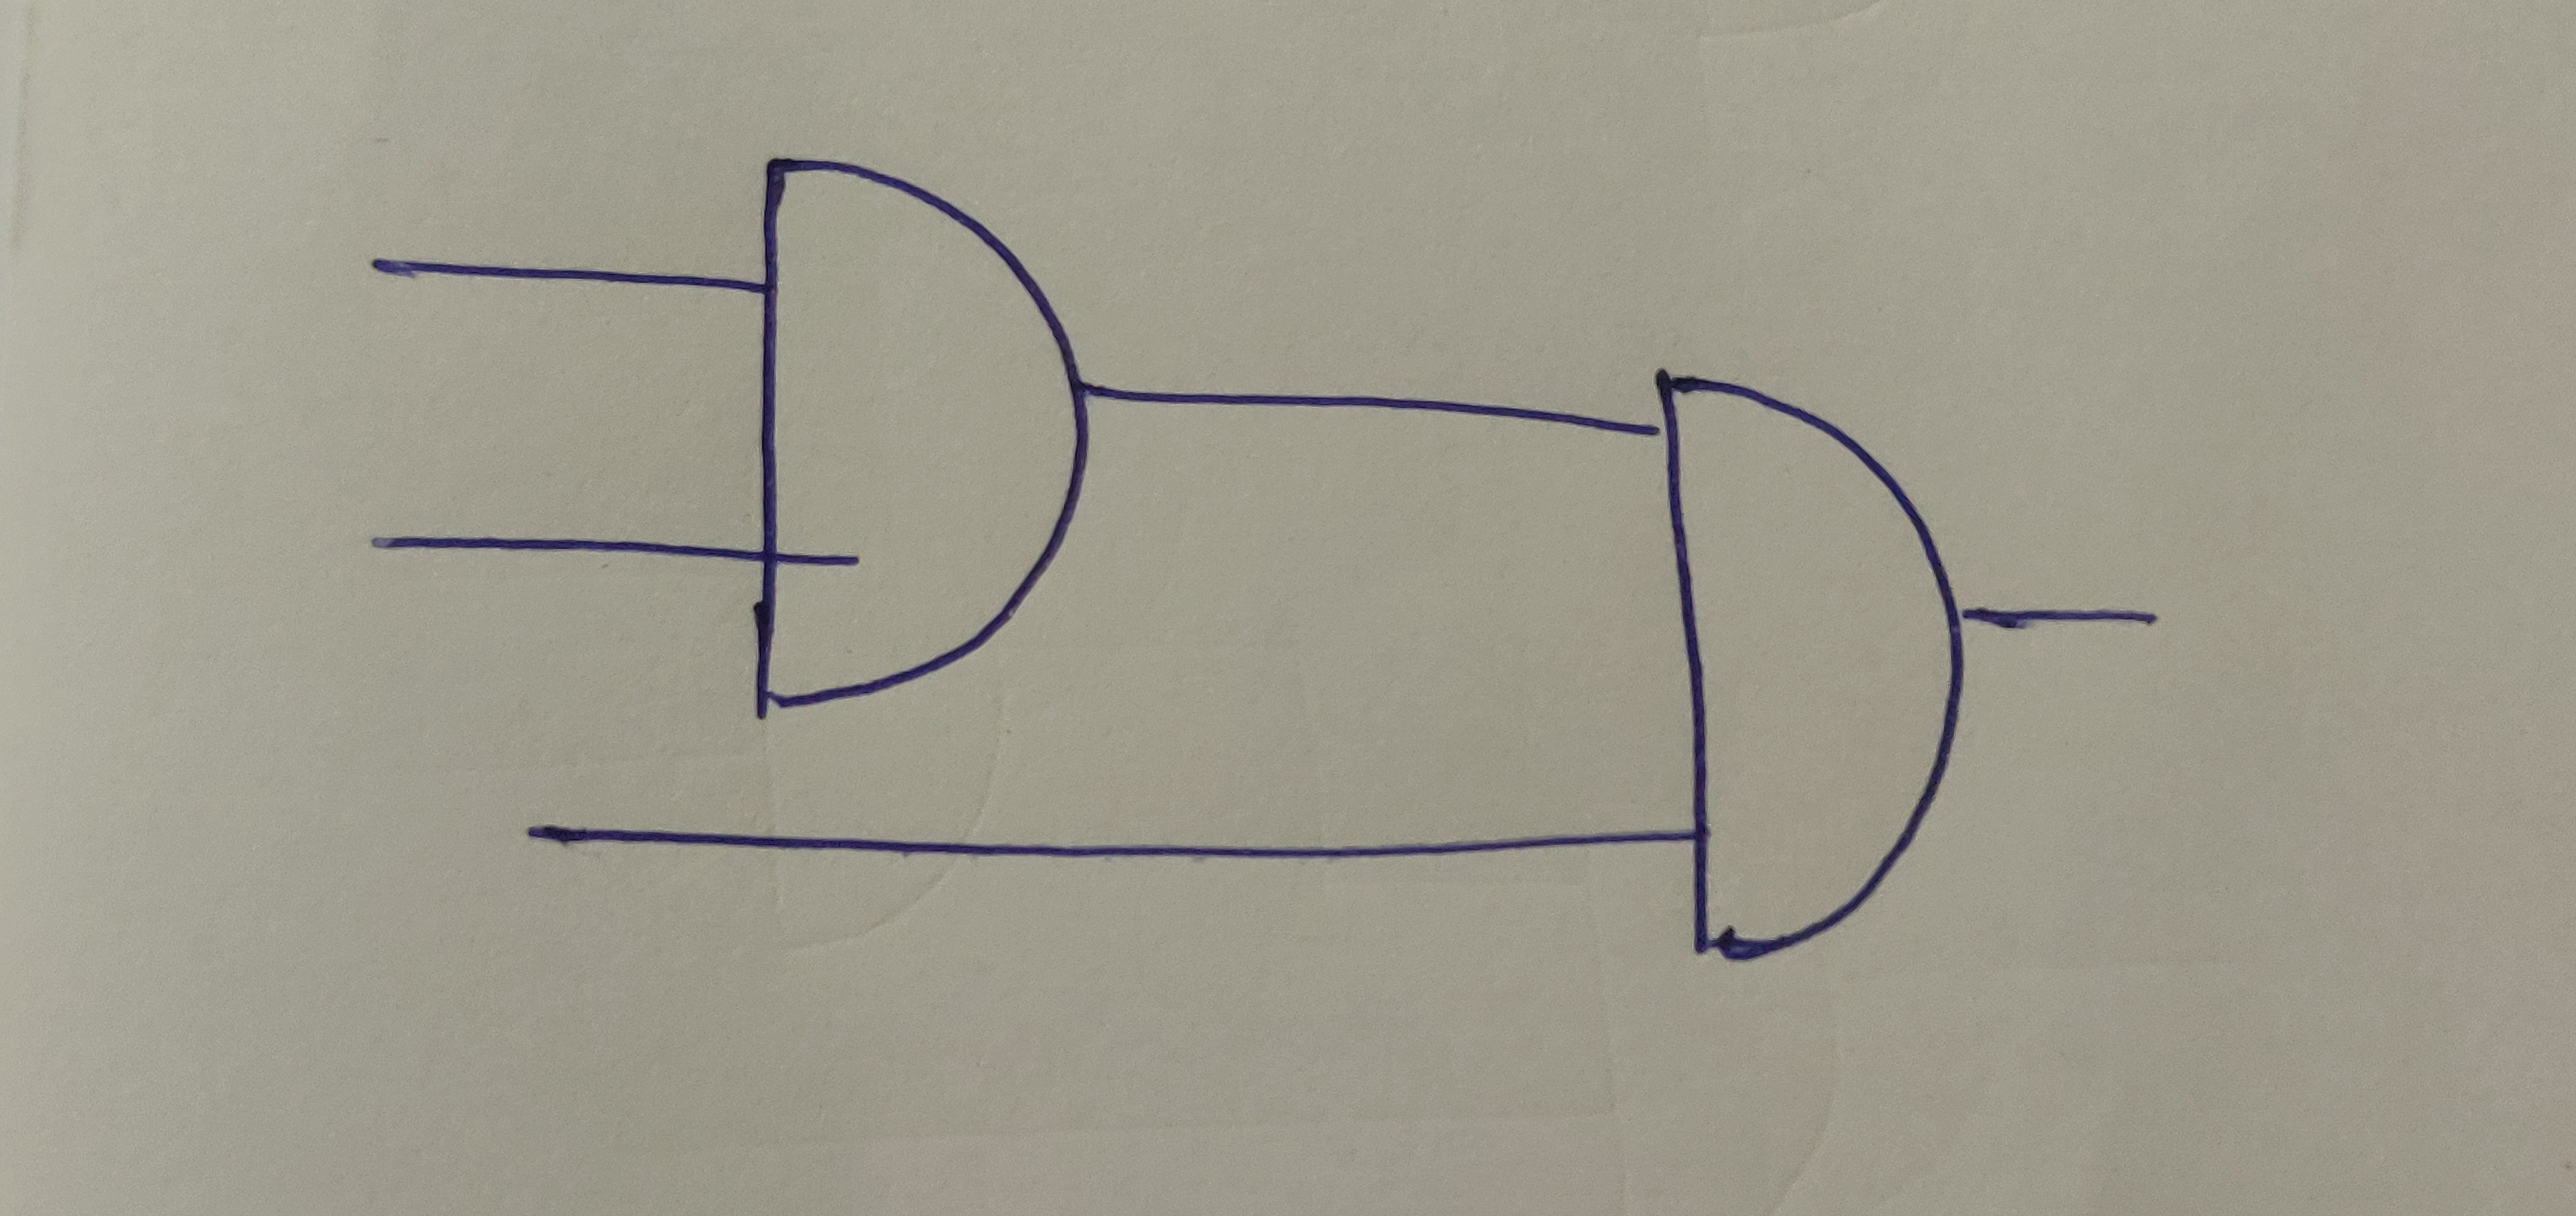and: (1653, 373, 1970, 958), (754, 156, 1091, 707)
